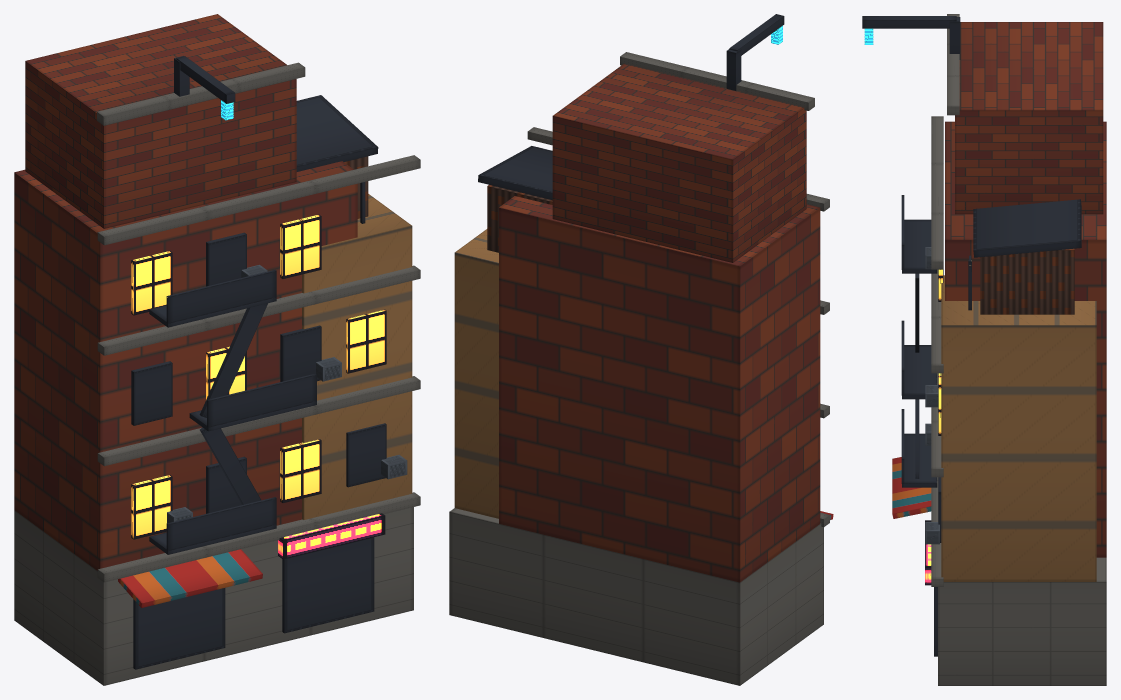
Rendered from ashblock_tenement_facade.glb.
3 views of the same model, side by side, from view 1: azimuth 30°, elevation 25°; view 2: azimuth 150°, elevation 25°; view 3: azimuth 270°, elevation 25° (orthographic). The views are drawn at different scales.
Visible parts, largest first — view 1: ashblock_tenement_facade; view 2: ashblock_tenement_facade; view 3: ashblock_tenement_facade.
Part boxes in pixels (x1,y1,x2,y2): ashblock_tenement_facade: (14, 14, 420, 685); ashblock_tenement_facade: (449, 14, 833, 685); ashblock_tenement_facade: (862, 14, 1106, 685).
Bounding box in the file's own units: 10.2 × 18.49 × 7.25.
Materials: 1 (1 with a texture image).
